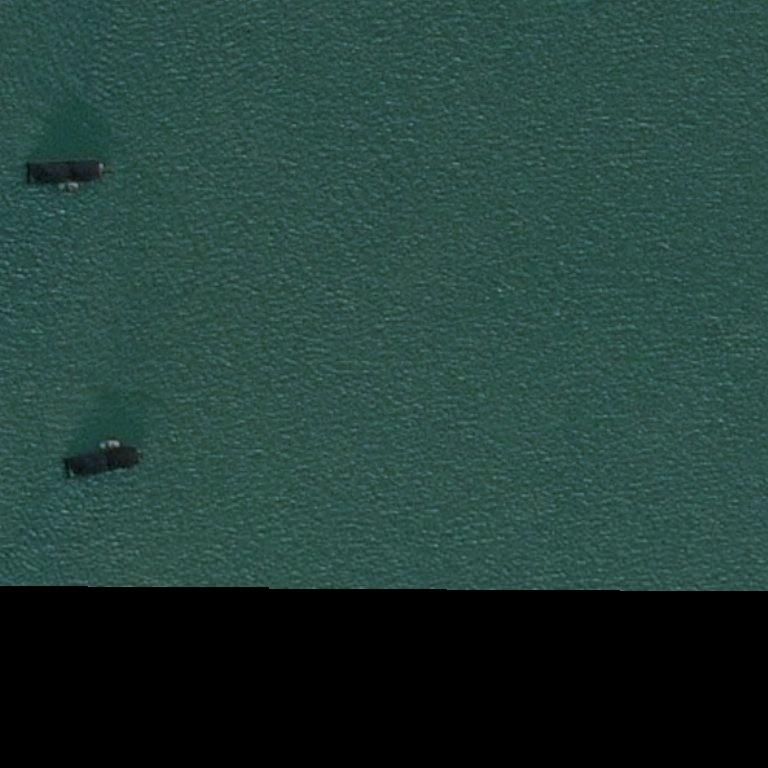ship: (24, 445, 30, 480), (67, 158, 69, 187), (27, 8, 32, 16), (67, 471, 74, 476), (136, 451, 140, 458), (65, 457, 70, 462), (4, 156, 10, 160), (102, 167, 106, 172)
